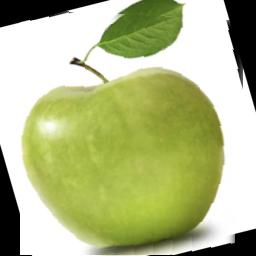Apple Fresh: (20, 9, 246, 255)
